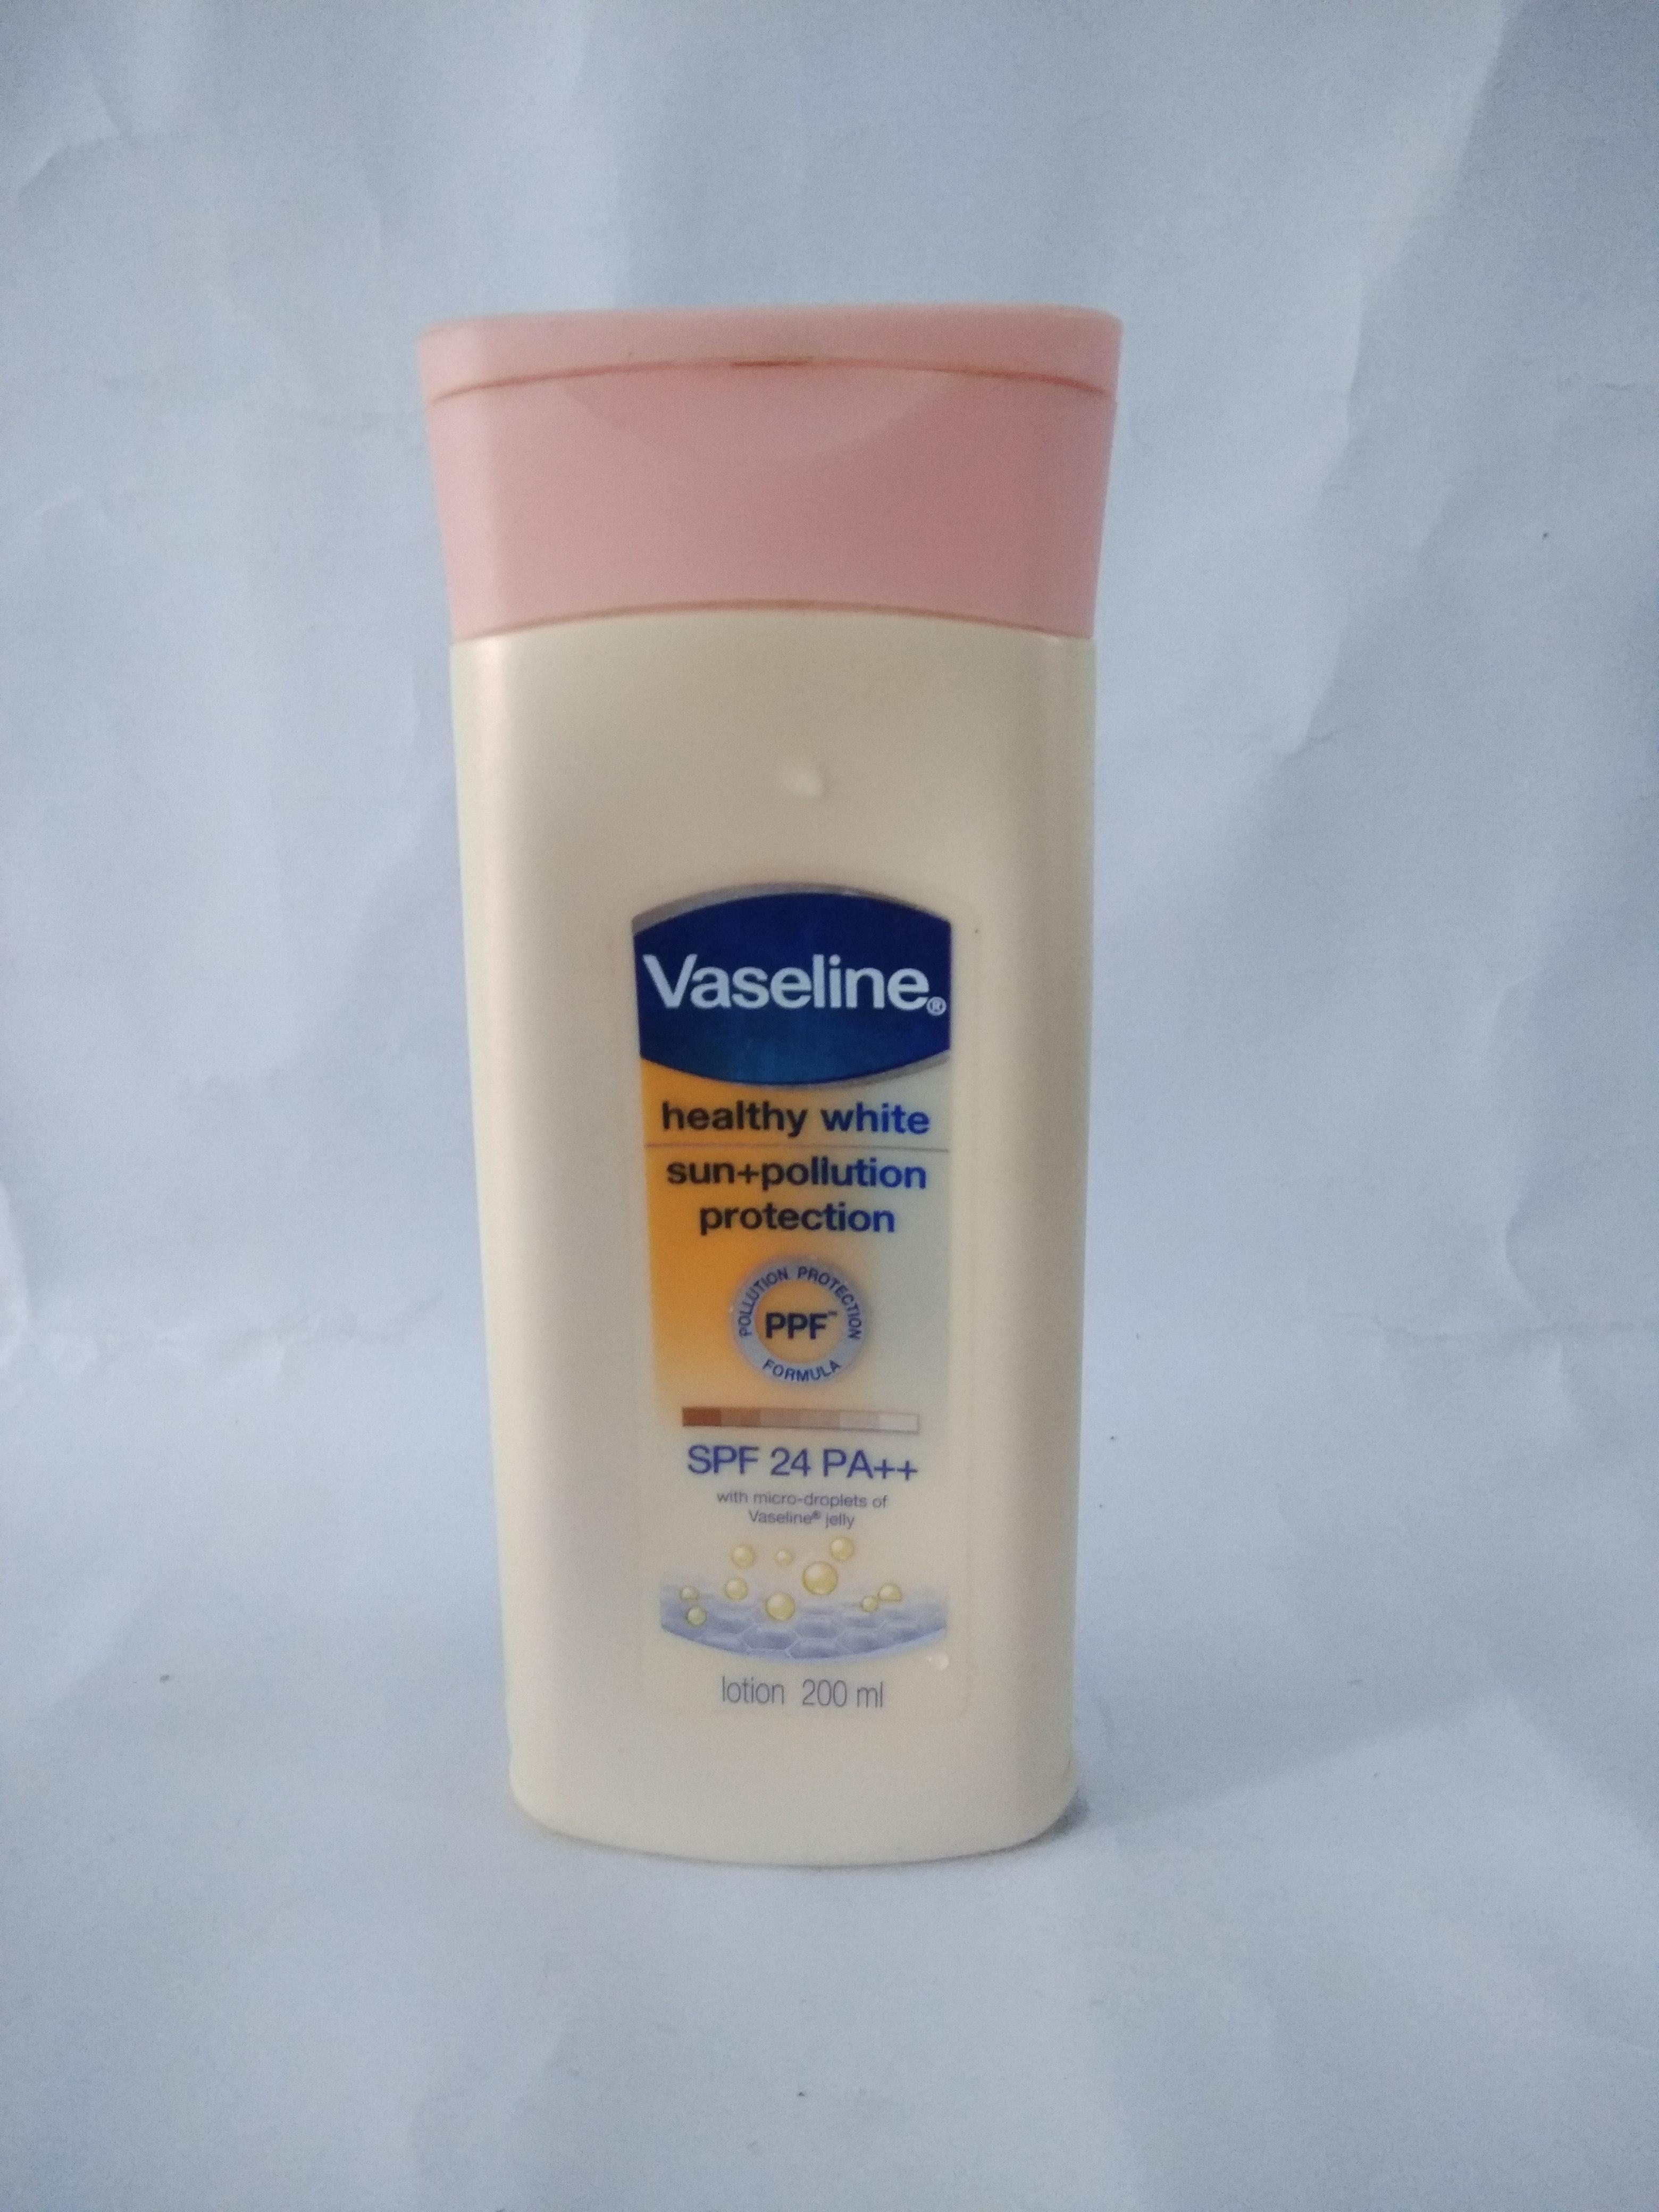HDPE: (448, 597, 1084, 1855), (425, 305, 1121, 648)
